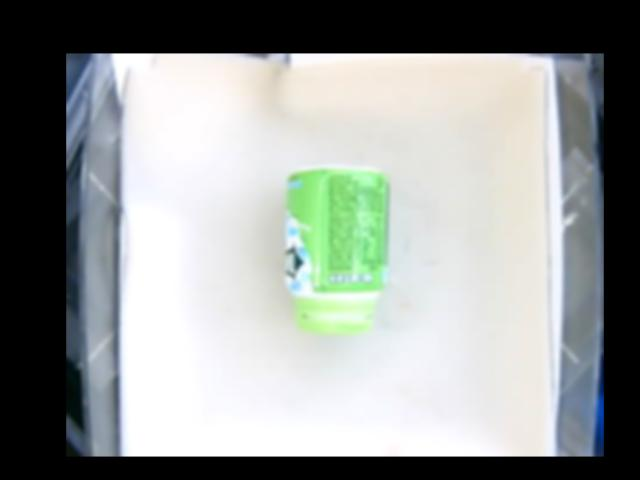Bottle: (284, 166, 388, 337)
